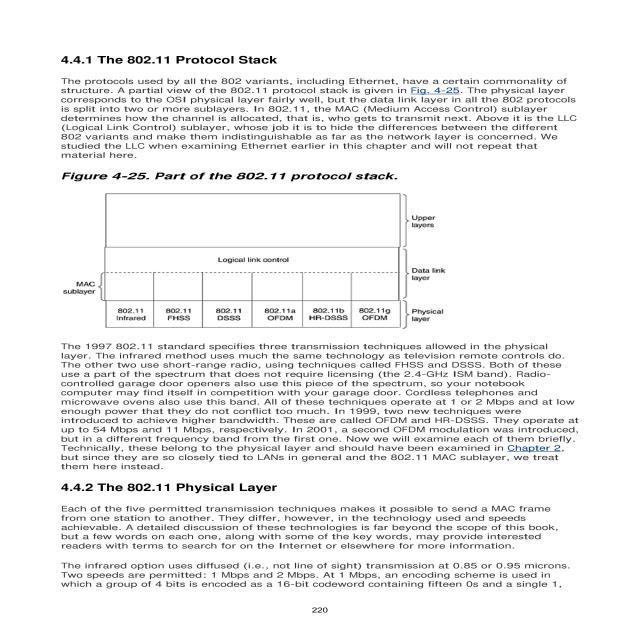diagram: (37, 165, 477, 336)
